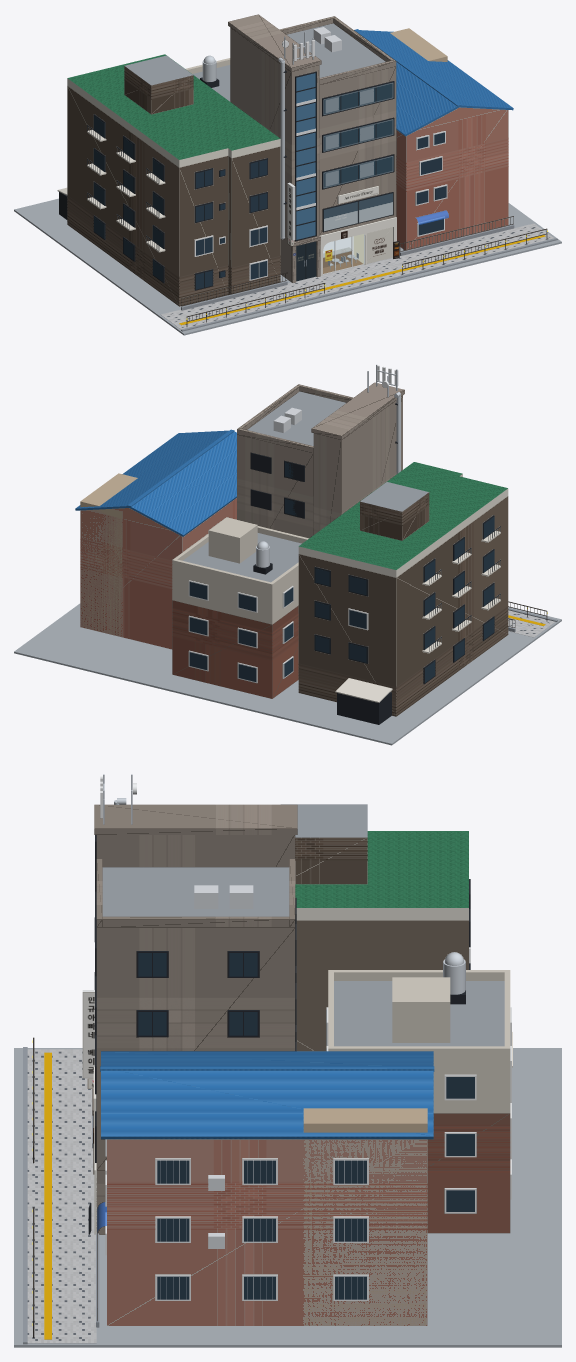
The model's file is place_bagel.glb.
3 renders of one model, top to bottom at view 1: azimuth 30°, elevation 25°; view 2: azimuth 150°, elevation 25°; view 3: azimuth 270°, elevation 25°, orthographic. The views are drawn at different scales.
Visible parts, largest first — view 1: B1_WestVilla_4F_BrickBody, B4_EastVilla_RedBrickBody, B1_TopCreamCornice, B2_MainBay_2F5F_Mass, b2_MinkyuBagel, South_Patterned_Sidewalk, Compact_Flat_GroundPad, B2_StairTower_Mass, Merged_B1_Glass, B1_Roof_Penthouse, B4_BlueRoof_EastSlope, B2_StairTower_CurtainGlass (+27 smaller); view 2: B1_WestVilla_4F_BrickBody, Compact_Flat_GroundPad, B4_EastVilla_RedBrickBody, B1_TopCreamCornice, B3_RearHouse_LowerBrick, B2_MainBay_2F5F_Mass, B2_StairTower_Mass, B3_RearHouse_UpperPlaster, B4_BlueRoof_WestSlope, B4_NE_TanAnnex, Merged_B1_Glass, B1_Roof_Penthouse (+15 smaller); view 3: B4_EastVilla_RedBrickBody, Compact_Flat_GroundPad, B2_MainBay_2F5F_Mass, B4_BlueRoof_EastSlope, South_Patterned_Sidewalk, B1_TopCreamCornice, B4_NE_TanAnnex, B3_RearHouse_UpperPlaster, B1_WestVilla_4F_BrickBody, B3_RearHouse_LowerBrick, Merged_B4_Glass, B2_StairTower_Mass (+18 smaller).
Boxes of the visible parts, x1,y1,x2,y2 form: B1_WestVilla_4F_BrickBody: (67, 86, 280, 306); B4_EastVilla_RedBrickBody: (396, 109, 508, 250); B1_TopCreamCornice: (67, 54, 280, 167); B2_MainBay_2F5F_Mass: (287, 23, 396, 235); b2_MinkyuBagel: (293, 82, 393, 281); South_Patterned_Sidewalk: (160, 223, 553, 329); Compact_Flat_GroundPad: (14, 198, 561, 335); B2_StairTower_Mass: (230, 27, 319, 282); Merged_B1_Glass: (94, 116, 267, 289); B1_Roof_Penthouse: (124, 55, 193, 114); B4_BlueRoof_EastSlope: (359, 30, 513, 110); B2_StairTower_CurtainGlass: (296, 73, 315, 239); B1_WestVilla_4F_BrickBody: (298, 496, 508, 716); Compact_Flat_GroundPad: (14, 603, 561, 745); B4_EastVilla_RedBrickBody: (80, 498, 236, 649); B1_TopCreamCornice: (298, 462, 508, 577); B3_RearHouse_LowerBrick: (172, 600, 298, 698); B2_MainBay_2F5F_Mass: (237, 391, 345, 538); B2_StairTower_Mass: (313, 395, 402, 534); B3_RearHouse_UpperPlaster: (172, 533, 301, 624); B4_BlueRoof_WestSlope: (129, 431, 236, 536); B4_NE_TanAnnex: (80, 473, 137, 636); Merged_B1_Glass: (315, 517, 494, 682); B1_Roof_Penthouse: (360, 482, 429, 540); B4_EastVilla_RedBrickBody: (107, 1139, 427, 1325); Compact_Flat_GroundPad: (14, 1048, 561, 1347); B2_MainBay_2F5F_Mass: (96, 867, 295, 1170); B4_BlueRoof_EastSlope: (101, 1070, 433, 1139); South_Patterned_Sidewalk: (27, 1049, 96, 1343); B1_TopCreamCornice: (295, 831, 468, 920); B4_NE_TanAnnex: (303, 1108, 427, 1325); B3_RearHouse_UpperPlaster: (334, 981, 510, 1113); B1_WestVilla_4F_BrickBody: (296, 920, 468, 1051); B3_RearHouse_LowerBrick: (427, 1113, 510, 1233); Merged_B4_Glass: (157, 1160, 366, 1299); B2_StairTower_Mass: (96, 835, 295, 867).
Size of the model in its own units: 34 by 20.49 by 26.5.
42 materials, 19 textured.
